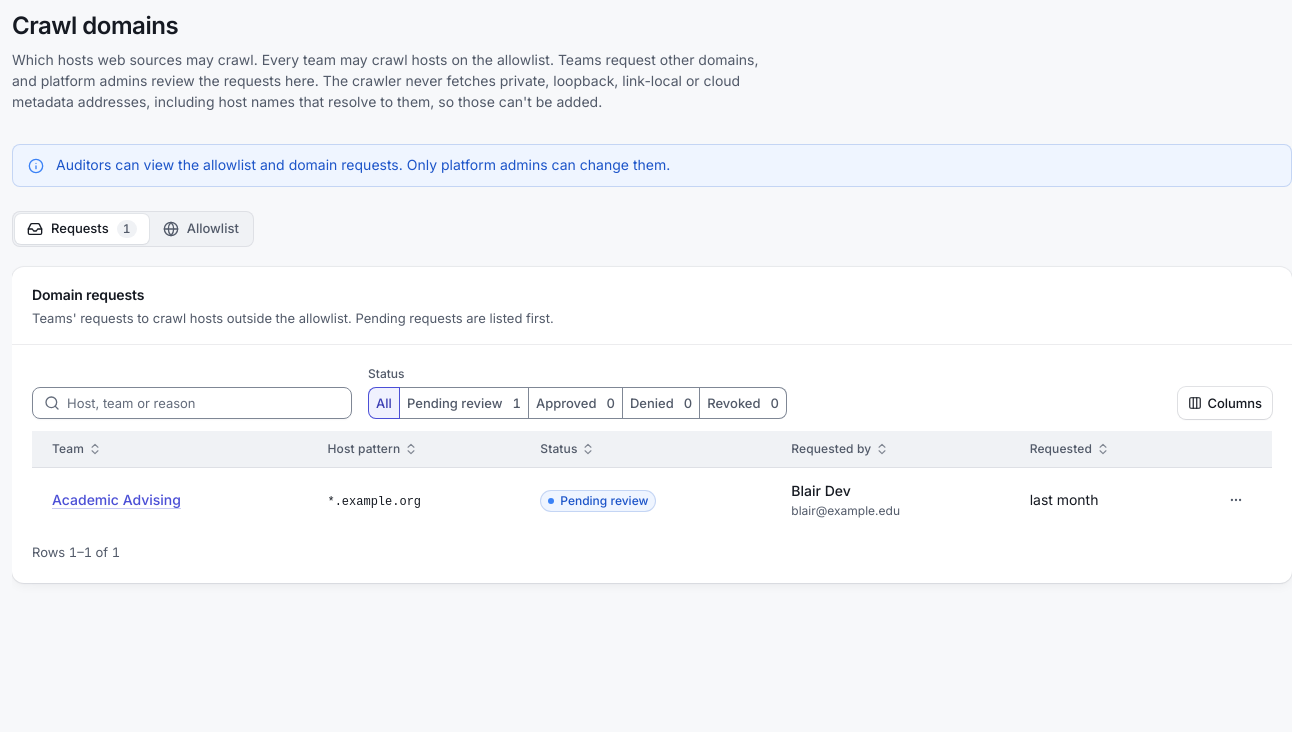
admin crawling page › is read-only for auditors
This screenshot has width=1292, height=732.
Expected: the text "Auditors can view the allowlist" is shown, [56,156,670,173]
Click the button named "Actions for" at (1236, 500), box [1220,484,1252,516]
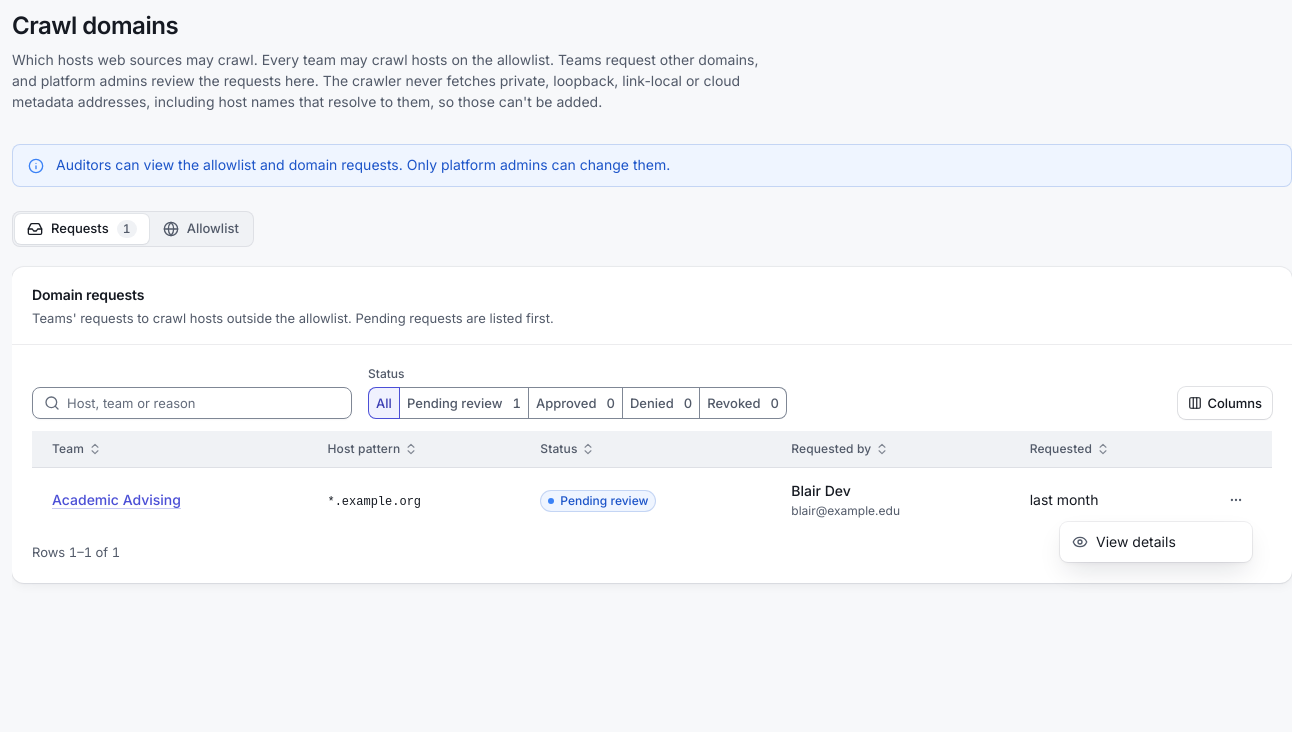
Expected: the menu item "View details" is shown, [1072,533,1176,550]
